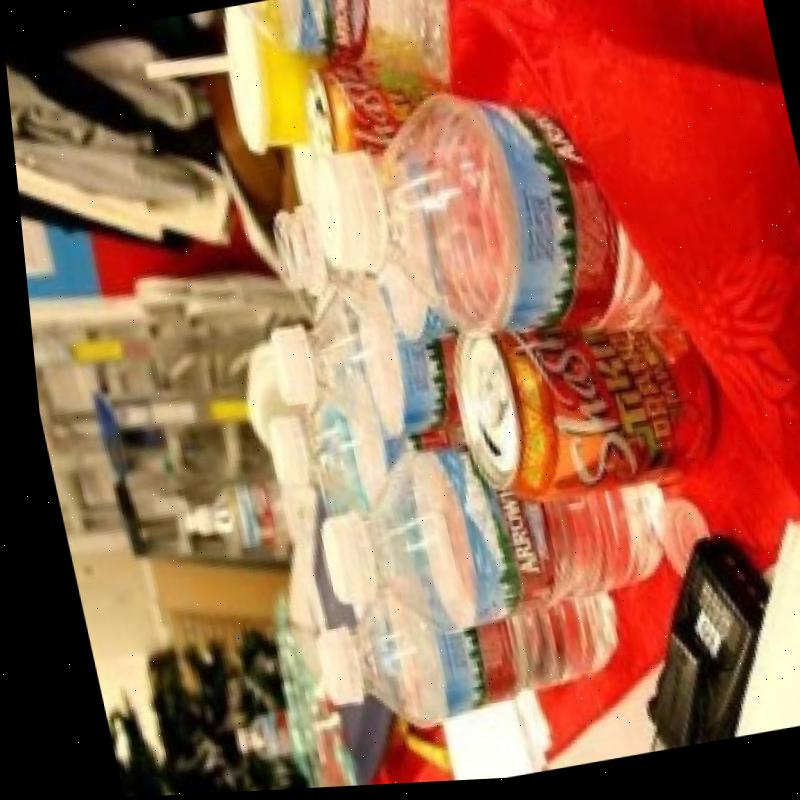botella: (284, 63, 678, 387), (289, 411, 672, 657), (289, 558, 628, 746), (251, 266, 471, 458), (253, 382, 431, 519), (244, 0, 461, 103), (262, 199, 340, 299)
